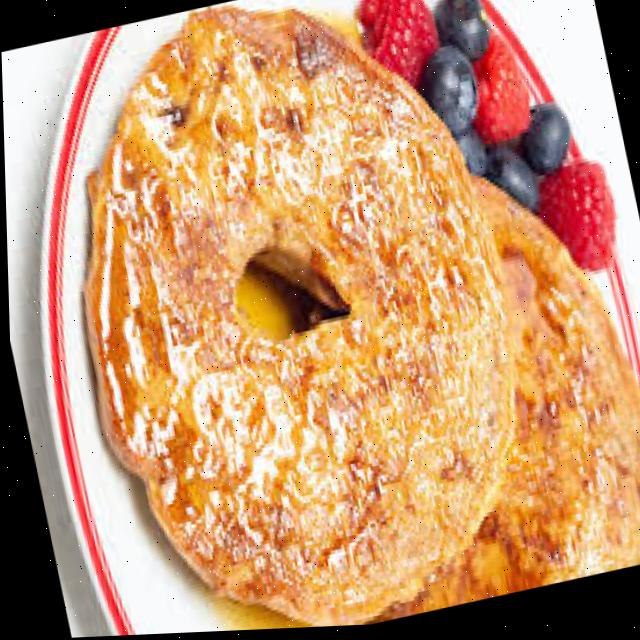Bagel: (82, 13, 510, 629)
